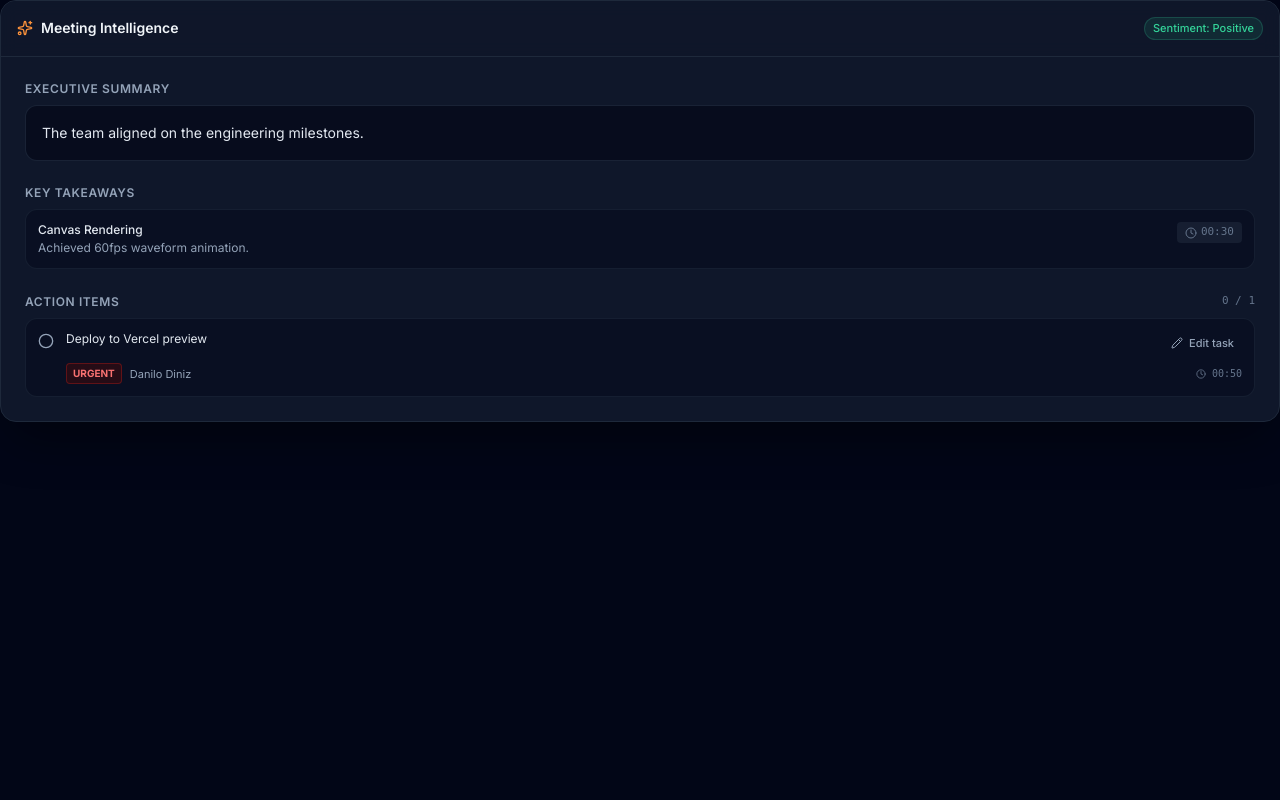
Scenario: MeetingIntelligencePanel › should discard modal edits when cancelling
The width and height of the screenshot is (1280, 800).
Click the button "Edit task" at (1202, 343), box [1163,331,1242,355]
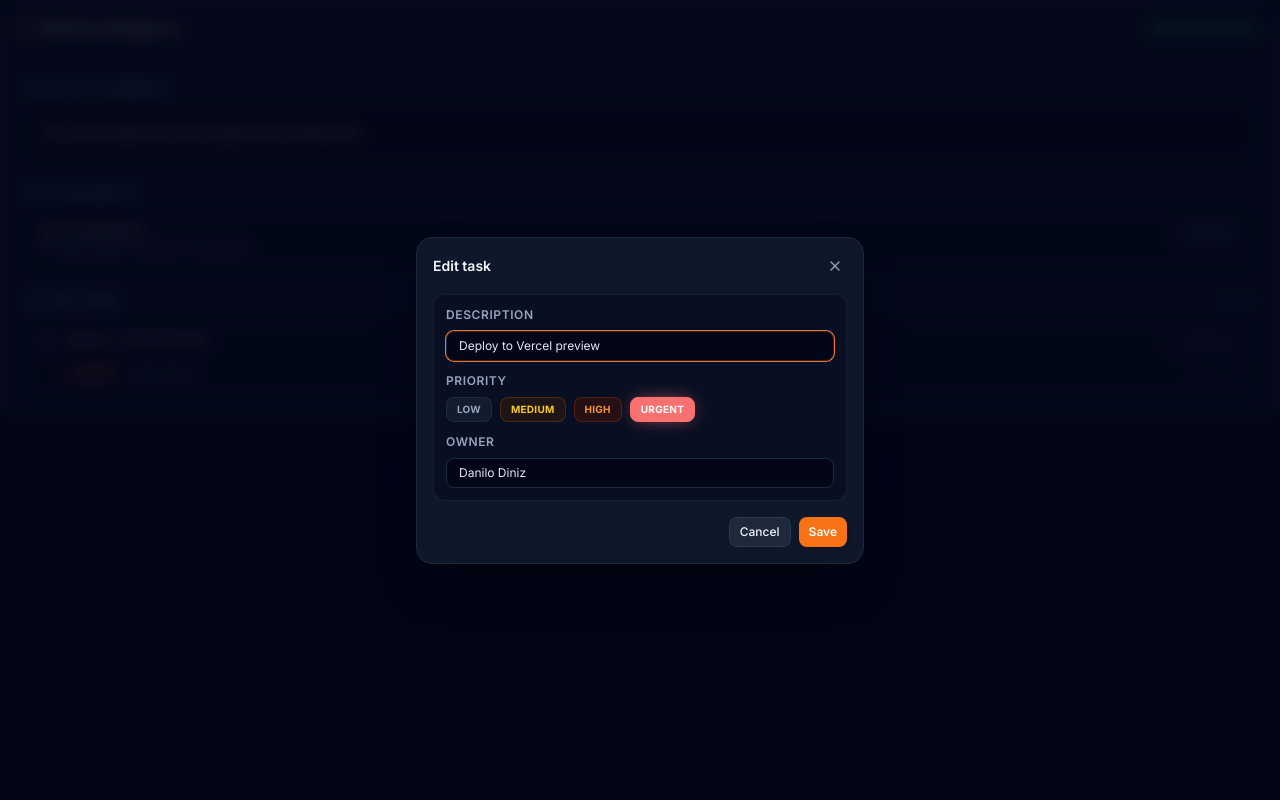
Replace the text in the field named "Task description" with "Ship the preview build" at (640, 346), box [446,330,834,360]
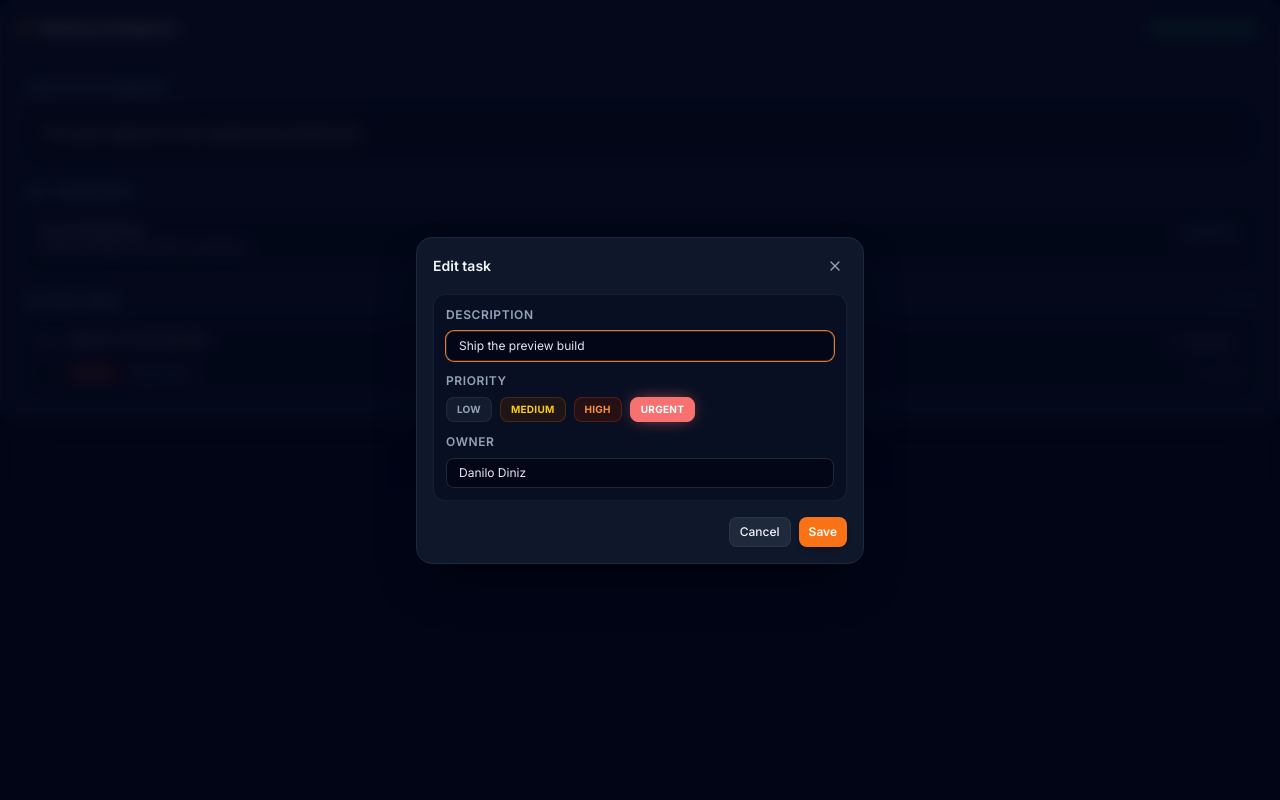
Click the button "Cancel" at (760, 532), box [729,516,790,546]
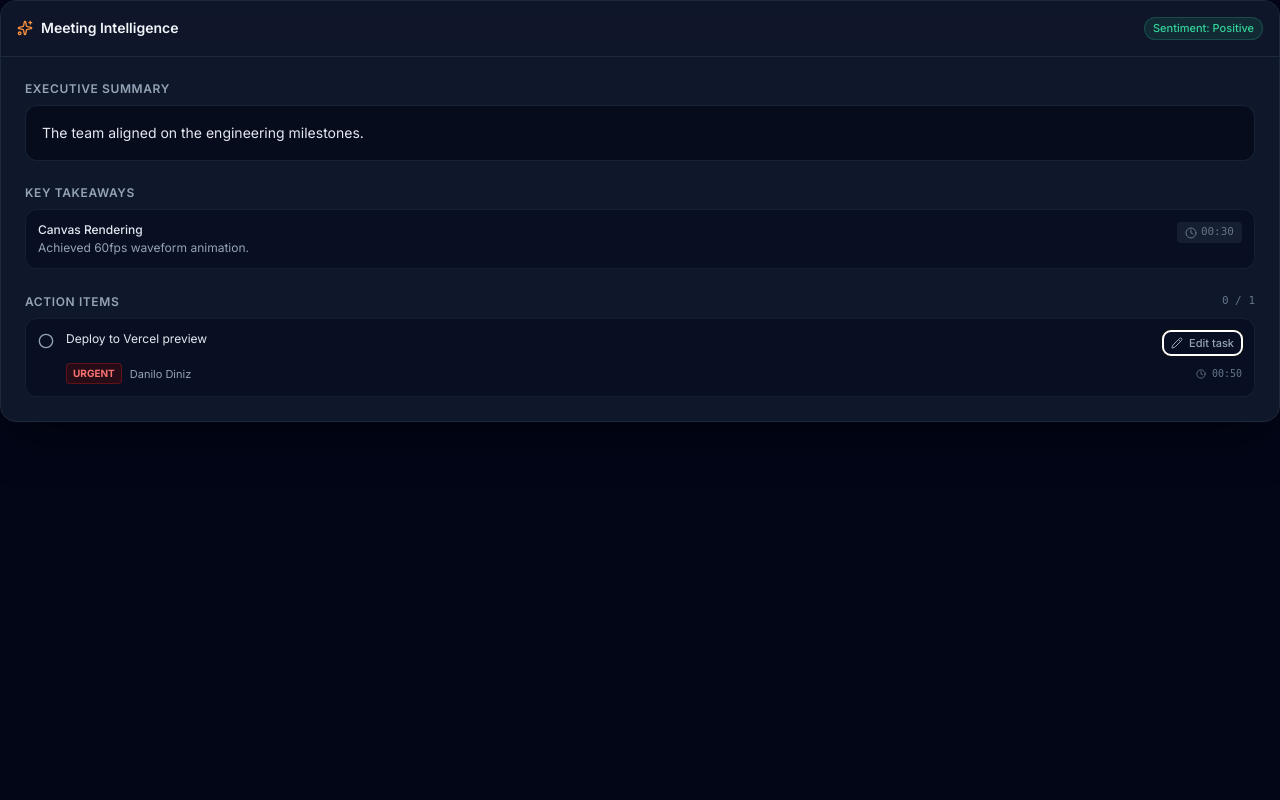
Expected: the text "Deploy to Vercel preview" is shown, [66,331,207,346]
Now the dialog is gone
